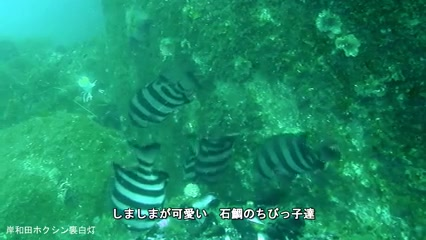ishidai: (115, 140, 173, 233), (253, 132, 341, 187), (192, 117, 238, 192), (129, 85, 192, 130)
